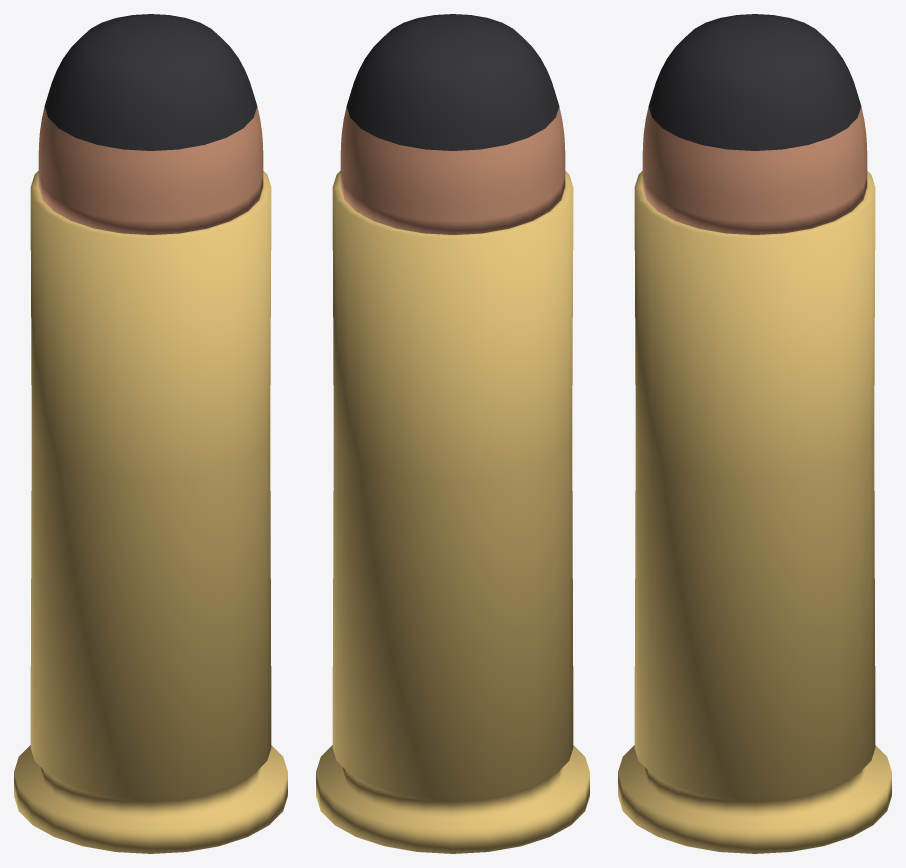
File: 44mag_ap.glb
The picture shows the model from 3 angles, left to right: view 1: azimuth 30°, elevation 25°; view 2: azimuth 150°, elevation 25°; view 3: azimuth 270°, elevation 25°; orthographic projection.
Parts seen in each view (by area): view 1: vaina, punta, bala_cuerpo; view 2: vaina, punta, bala_cuerpo; view 3: vaina, punta, bala_cuerpo.
Part boxes in pixels (x1,y1,x2,y2): vaina: (14,171,287,853); punta: (44,14,257,150); bala_cuerpo: (38,106,263,234); vaina: (316,171,589,853); punta: (346,14,559,150); bala_cuerpo: (340,106,565,234); vaina: (618,171,891,853); punta: (648,14,861,150); bala_cuerpo: (642,106,867,234).
Size of the model in its own units: 0.0133 by 0.041 by 0.0133.
